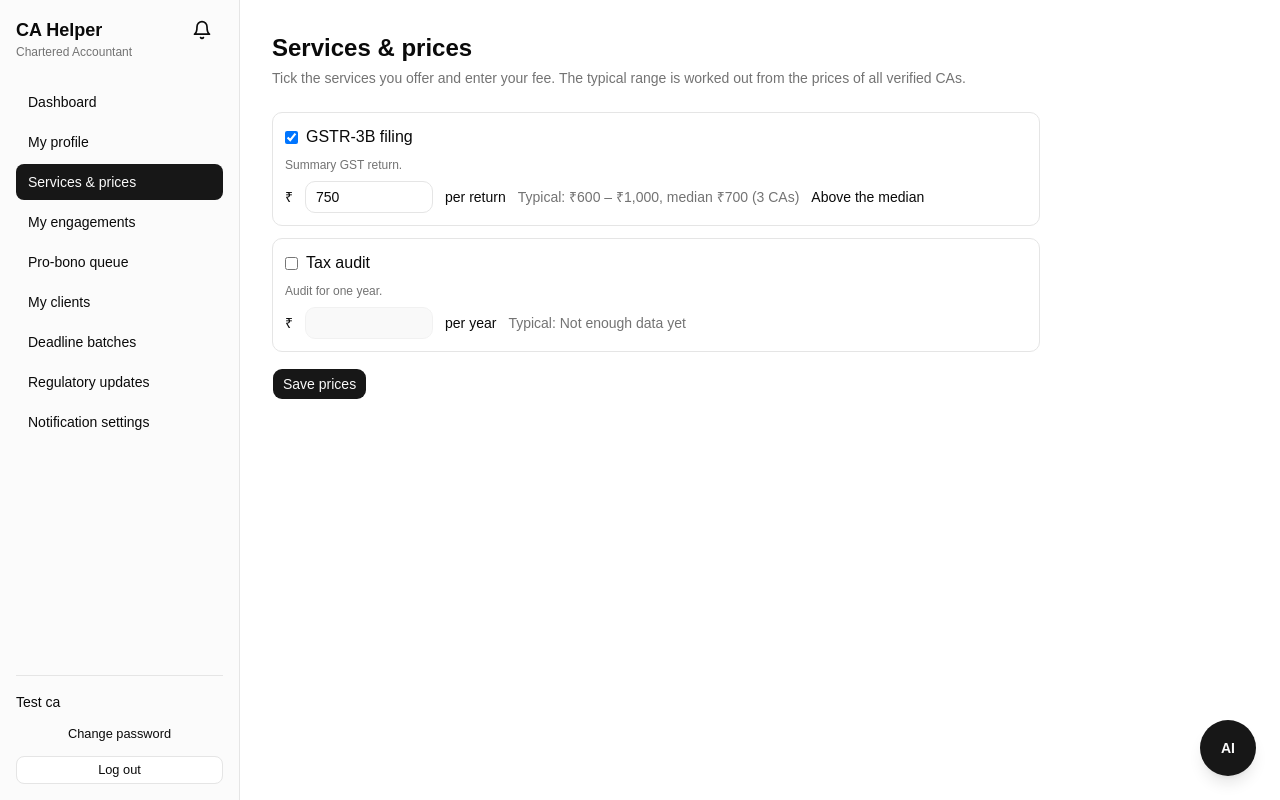
Scenario: CA services & prices page › refuses a price of 0 next to its field and near Save
Step 1. Replace the text in the field named "Price for GSTR-3B filing" with "0" → (369, 197), box top-left (305, 181), bottom-right (433, 213)
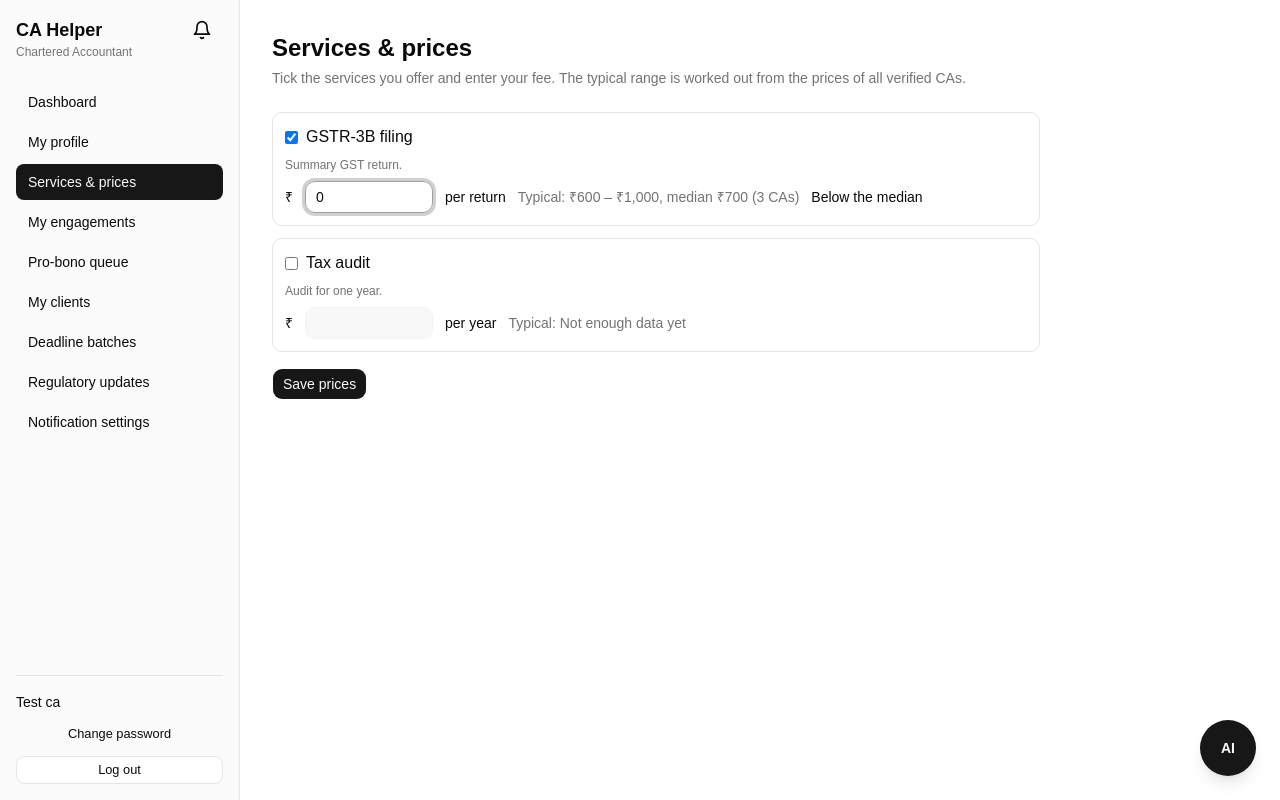
Step 2. Click the button "Save prices" → (320, 384), box top-left (272, 368), bottom-right (367, 400)
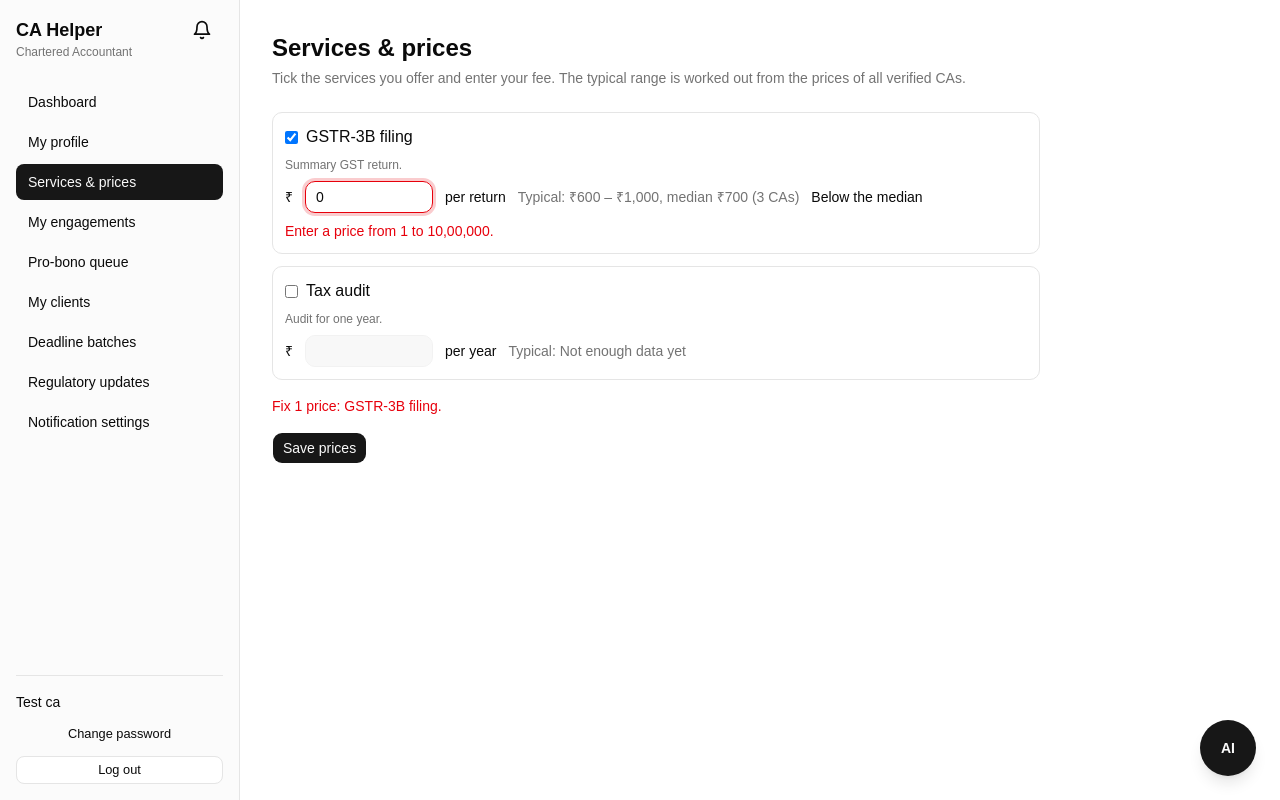
expect the message reads "Fix 1 price: GSTR-3B filing.": met, box top-left (272, 398), bottom-right (442, 414)
